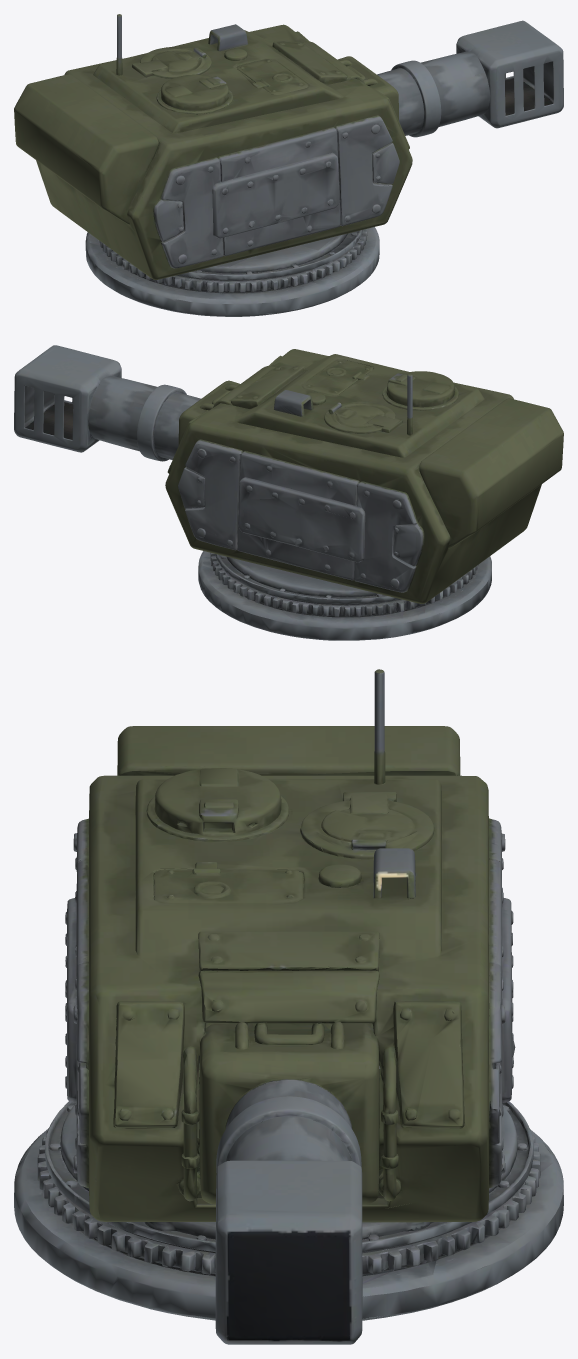
File: weapon-siege-0-full.glb
The picture shows the model from 3 angles, top to bottom: view 1: azimuth 30°, elevation 25°; view 2: azimuth 150°, elevation 25°; view 3: azimuth 270°, elevation 25°; orthographic projection. The views are drawn at different scales.
Visible parts, largest first — view 1: weapon-siege-0-full; view 2: weapon-siege-0-full; view 3: weapon-siege-0-full.
Part boxes in pixels (x1,y1,x2,y2): weapon-siege-0-full: (14, 14, 563, 316); weapon-siege-0-full: (14, 345, 563, 640); weapon-siege-0-full: (14, 669, 563, 1344).
Size of the model in its own units: 2.93 by 1.4 by 1.52.
1 material, 1 textured.
